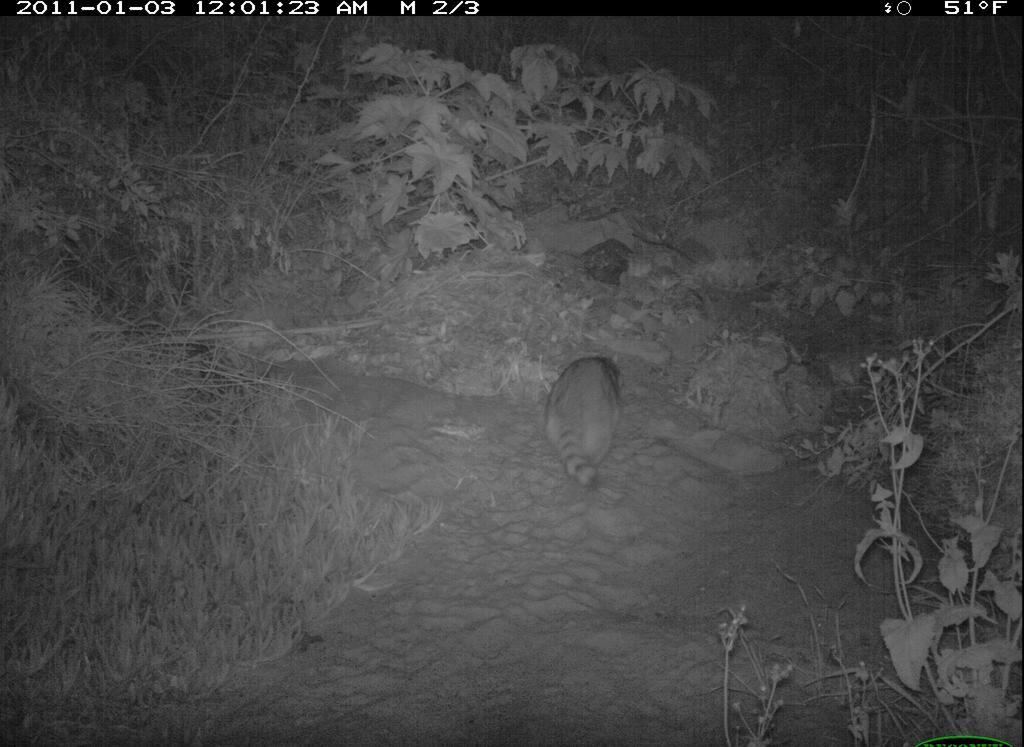raccoon: (539, 333, 634, 502)
